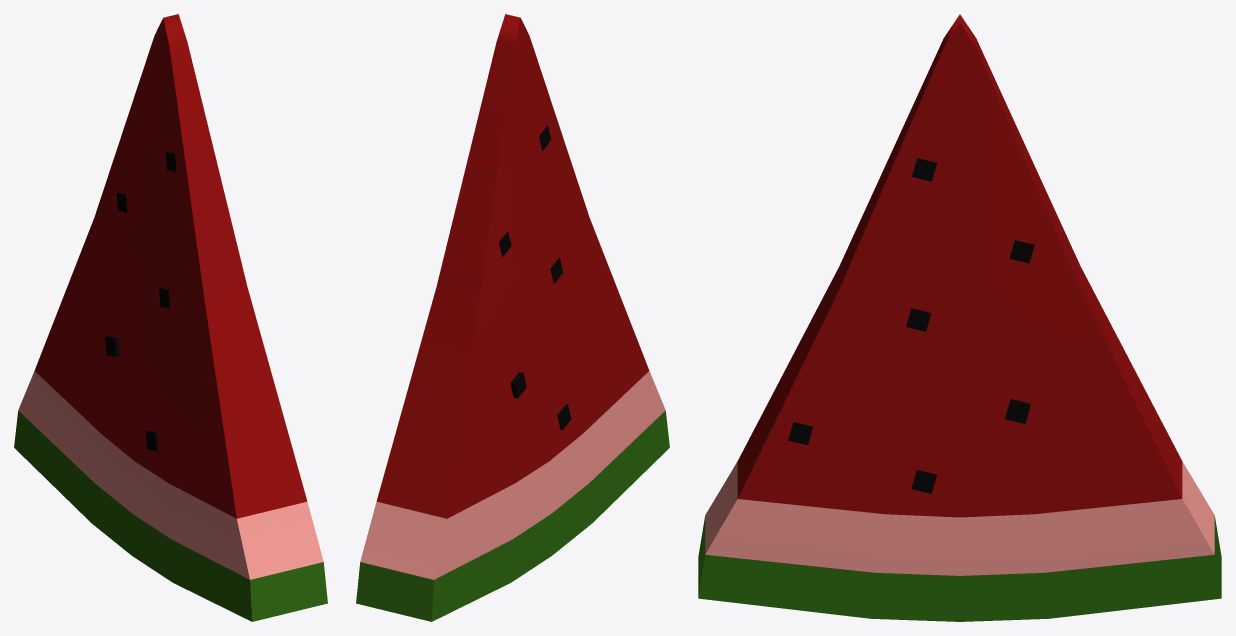
Rendered from Meloen_Stuk2.FBX.
The picture shows the model from 3 angles, left to right: view 1: azimuth 30°, elevation 25°; view 2: azimuth 150°, elevation 25°; view 3: azimuth 270°, elevation 25°; orthographic projection. The views are drawn at different scales.
Parts seen in each view (by area): view 1: Meloenstuk1; view 2: Meloenstuk1; view 3: Meloenstuk1.
Part boxes in pixels (x1,y1,x2,y2): Meloenstuk1: [14, 14, 327, 621]; Meloenstuk1: [356, 14, 669, 621]; Meloenstuk1: [698, 14, 1221, 621].
Bounding box in the file's own units: 230 × 1212 × 1489.
